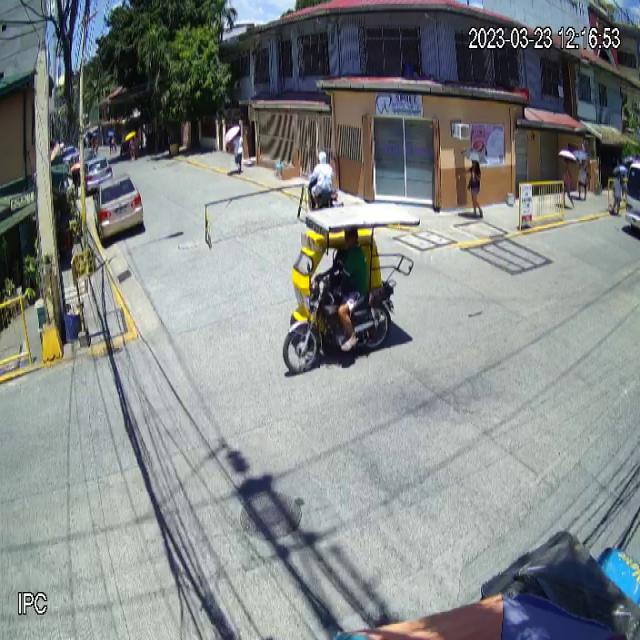Tricycle: (281, 203, 423, 377)
